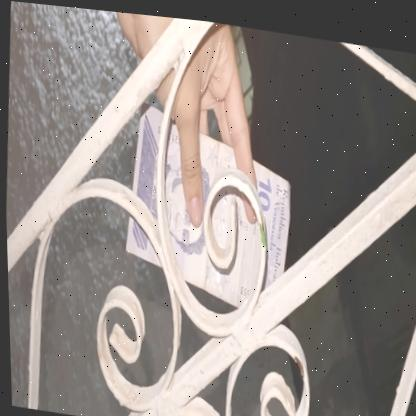ten-front-vef: (116, 94, 296, 320)
